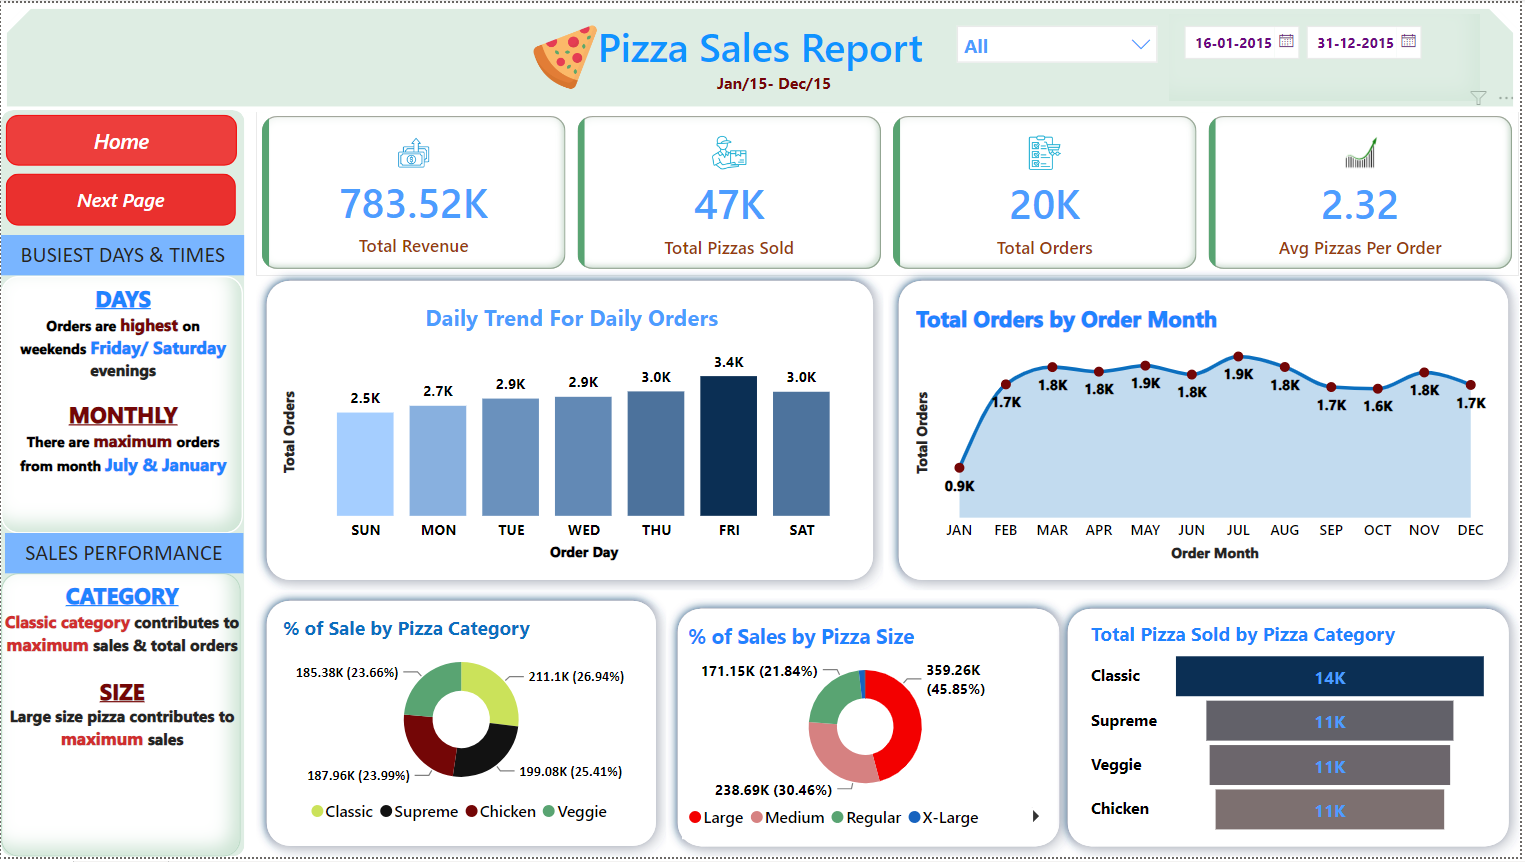

The page's visual inventory and layout, read from the dashboard file:
{"tool":"powerbi","page":{"name":"Home","canvas":[1280,720],"ordinal":0},"visuals":[{"type":"cardVisual","fields":{"Data":["pizza_sales.Total Revenue","pizza_sales.Total Pizzas Sold","pizza_sales.Total Orders","pizza_sales.Avg Pizzas Per Order"]},"box":[215.2,90.6,1064.6,139.1],"z":0},{"type":"shape","box":[0,0,1279.8,92.2],"z":1000},{"type":"textbox","box":[10,312.5,1270,163],"z":2000},{"type":"textbox","box":[572.8,53.4,158.6,37.2],"z":3000},{"type":"image","box":[388.3,12.9,173.1,66.3],"z":4000},{"type":"shape","box":[214.9,224.8,529.3,270.4],"z":5000},{"type":"clusteredColumnChart","title":"Daily Trend For Daily Orders","fields":{"Category":["pizza_sales.Order Day"],"Y":["pizza_sales.Total Orders"]},"box":[233,252.4,496.7,223.3],"z":6000},{"type":"shape","box":[747.8,224.8,531.9,270.4],"z":7000},{"type":"stackedAreaChart","fields":{"Y":["pizza_sales.Total Orders"],"Category":["pizza_sales.Order Month"]},"box":[766.6,252.5,493.4,223],"z":8000},{"type":"shape","box":[215.2,495.1,346.2,224.9],"z":9000},{"type":"shape","box":[561.4,501.6,339.8,218.4],"z":10000},{"type":"shape","box":[889.9,501.6,389.9,218.4],"z":11000},{"type":"donutChart","title":"% of Sale by Pizza Category","fields":{"Category":["pizza_sales.pizza_category"],"Y":["pizza_sales.Total Revenue"]},"box":[233,516.1,310.7,184.4],"z":12000},{"type":"donutChart","title":"% of Sales by Pizza Size","fields":{"Category":["pizza_sales.pizza_size"],"Y":["pizza_sales.Total Revenue"]},"box":[574,521.2,309,184.5],"z":13000},{"type":"funnel","title":"Total Pizza Sold by Pizza Category","fields":{"Category":["pizza_sales.pizza_category"],"Y":["pizza_sales.Total Pizzas Sold"]},"box":[914.2,521,346.2,184.4],"z":14000},{"type":"shape","box":[0,90.6,205.5,629.4],"z":15000},{"type":"textbox","box":[0,195.8,205.5,34],"z":16000},{"type":"textbox","box":[0,229.8,203.9,216.8],"z":17000},{"type":"textbox","box":[0,480.5,202.2,239.5],"z":18000},{"type":"textbox","box":[3.2,446.6,200.6,34],"z":19000},{"type":"slicer","fields":{"Values":["pizza_sales.pizza_category"]},"box":[796.1,9,189,81.5],"z":20000},{"type":"slicer","fields":{"Values":["pizza_sales.order_date"]},"box":[985.1,9,262.4,72.5],"z":21000},{"type":"pageNavigator","box":[0,90.6,203.9,50.2],"z":22000},{"type":"pageNavigator","box":[0,140.6,202.4,50.1],"z":23000}]}

Visuals, with their boxes in screenshot pixels (x1, y1, x2, y2), scaled from the page's 1280x720 canvas onto the 1525x862 screenshot:
cardVisual - pizza_sales.Total Revenue x pizza_sales.Total Pizzas Sold: left=256, top=108, right=1524, bottom=275
shape: left=0, top=0, right=1524, bottom=110
textbox: left=12, top=374, right=1524, bottom=569
textbox: left=682, top=64, right=871, bottom=108
image: left=463, top=15, right=669, bottom=95
shape: left=256, top=269, right=887, bottom=593
"Daily Trend For Daily Orders" clusteredColumnChart: left=278, top=302, right=869, bottom=570
shape: left=891, top=269, right=1524, bottom=593
stackedAreaChart - pizza_sales.Total Orders x pizza_sales.Order Month: left=913, top=302, right=1501, bottom=569
shape: left=256, top=593, right=669, bottom=861
shape: left=669, top=601, right=1074, bottom=861
shape: left=1060, top=601, right=1524, bottom=861
"% of Sale by Pizza Category" donutChart: left=278, top=618, right=648, bottom=839
"% of Sales by Pizza Size" donutChart: left=684, top=624, right=1052, bottom=845
"Total Pizza Sold by Pizza Category" funnel: left=1089, top=624, right=1502, bottom=845
shape: left=0, top=108, right=245, bottom=861
textbox: left=0, top=234, right=245, bottom=275
textbox: left=0, top=275, right=243, bottom=535
textbox: left=0, top=575, right=241, bottom=861
textbox: left=4, top=535, right=243, bottom=575
slicer - pizza_sales.pizza_category: left=948, top=11, right=1174, bottom=108
slicer - pizza_sales.order_date: left=1174, top=11, right=1486, bottom=98
pageNavigator: left=0, top=108, right=243, bottom=169
pageNavigator: left=0, top=168, right=241, bottom=228
